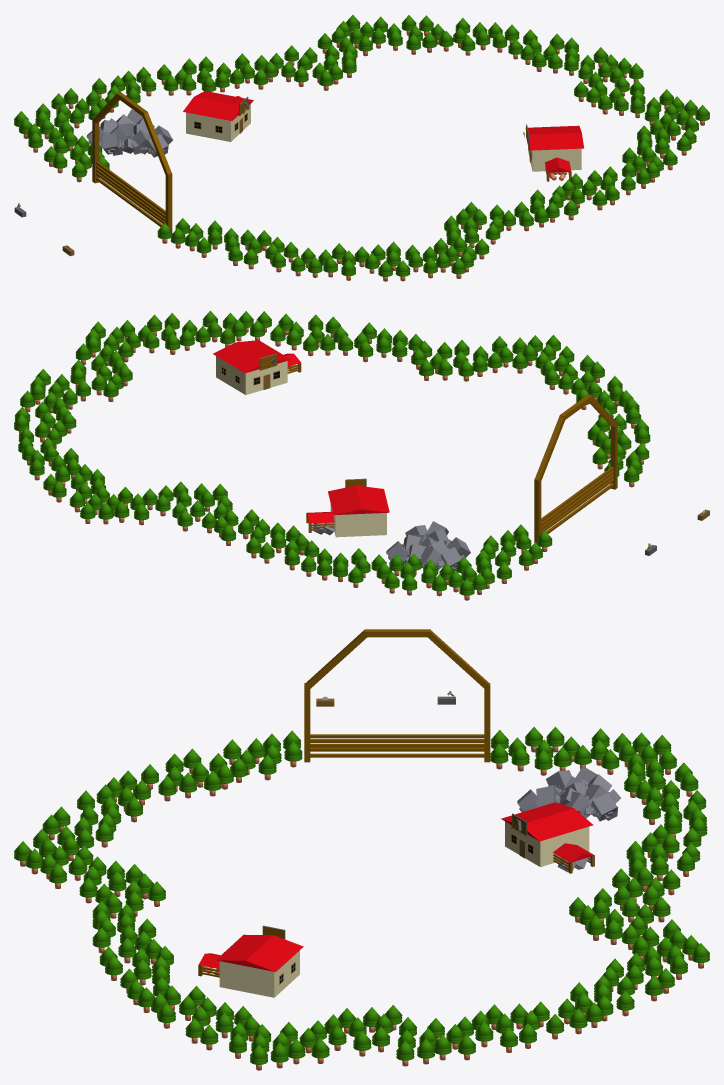
File: MainScene.glb
3 renders of one model, top to bottom at view 1: azimuth 30°, elevation 25°; view 2: azimuth 150°, elevation 25°; view 3: azimuth 270°, elevation 25°, orthographic. The views are drawn at different scales.
Visible parts, largest first — view 1: Cube.010, Cube.031, Cube.001, Mine house, Lumber house, Cube.045; view 2: Cube.010, Cube.001, Lumber house, Cube.031, Mine house; view 3: Cube.010, Cube.031, Lumber house, Cube.001, Mine house.
Part boxes in pixels (x1=…): Cube.010: x1=92, y1=92, x2=172, y2=232; Cube.031: x1=525, y1=125, x2=584, y2=150; Cube.001: x1=183, y1=91, x2=253, y2=120; Mine house: x1=186, y1=104, x2=250, y2=141; Lumber house: x1=528, y1=145, x2=581, y2=171; Cube.045: x1=122, y1=130, x2=150, y2=154; Cube.010: x1=534, y1=394, x2=617, y2=543; Cube.001: x1=328, y1=485, x2=389, y2=514; Lumber house: x1=216, y1=356, x2=287, y2=394; Cube.031: x1=213, y1=340, x2=290, y2=373; Mine house: x1=330, y1=504, x2=386, y2=537; Cube.010: x1=304, y1=629, x2=490, y2=762; Cube.031: x1=216, y1=934, x2=303, y2=971; Lumber house: x1=219, y1=950, x2=299, y2=997; Cube.001: x1=501, y1=802, x2=593, y2=841; Mine house: x1=505, y1=821, x2=589, y2=866.
Size of the model in its own units: 289 by 50.6 by 230.
